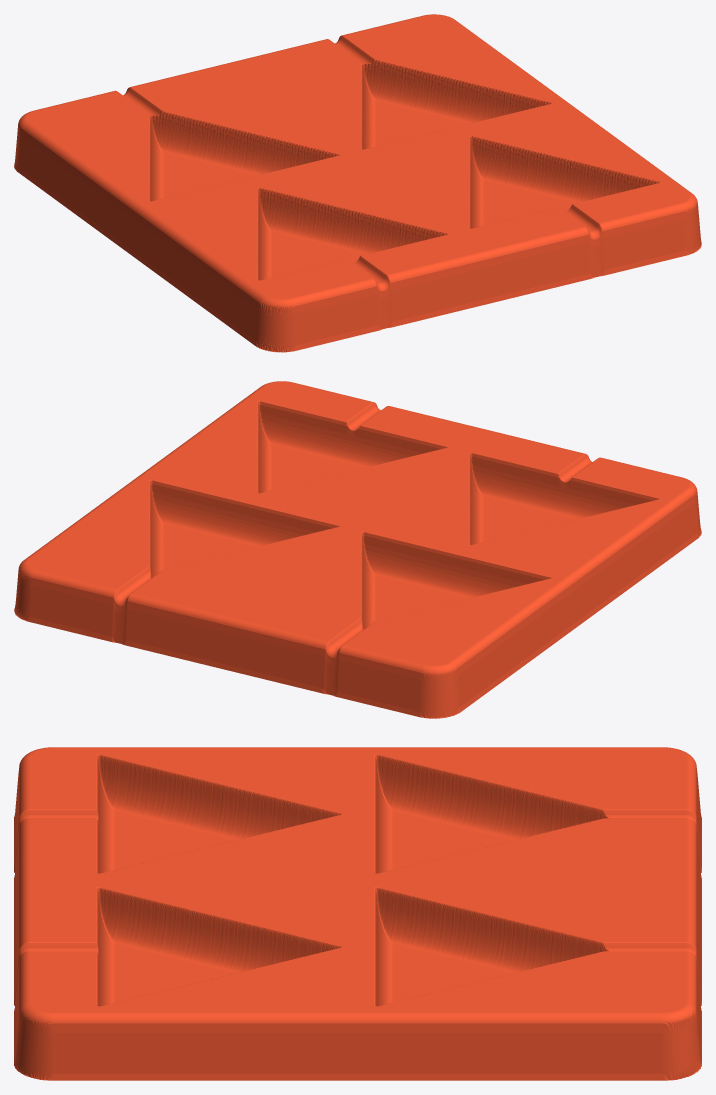
The model's file is mold.glb.
The picture shows the model from 3 angles, top to bottom: view 1: azimuth 30°, elevation 25°; view 2: azimuth 150°, elevation 25°; view 3: azimuth 270°, elevation 25°; orthographic projection. The views are drawn at different scales.
Visible parts, largest first — view 1: geometry_0; view 2: geometry_0; view 3: geometry_0.
Part boxes in pixels (x1=…): geometry_0: x1=14, y1=14, x2=701, y2=352; geometry_0: x1=14, y1=381, x2=701, y2=718; geometry_0: x1=14, y1=747, x2=701, y2=1080.
Bounding box in the file's own units: 0.1497 × 0.0155 × 0.1567.
